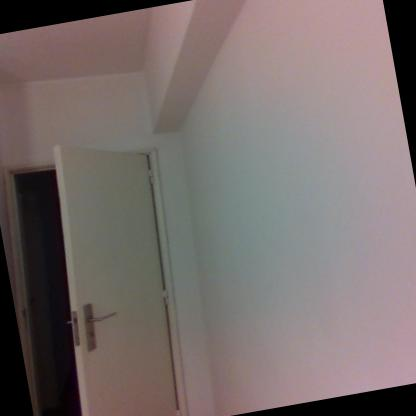semi: (0, 124, 214, 415)
